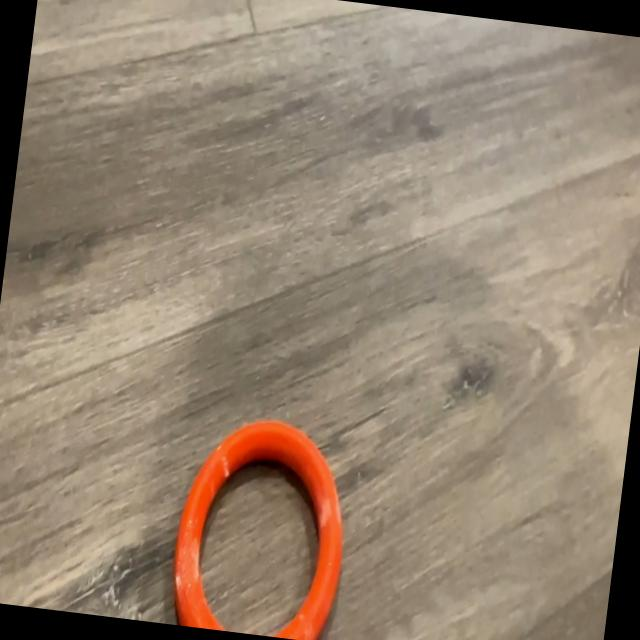note: (163, 405, 357, 640)
